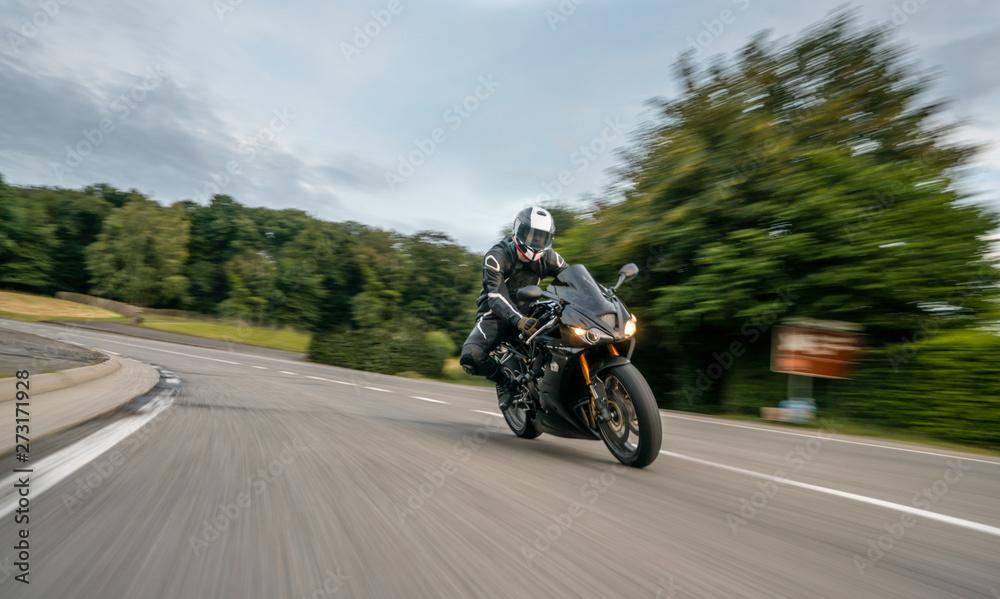helmet: (512, 206, 556, 263)
